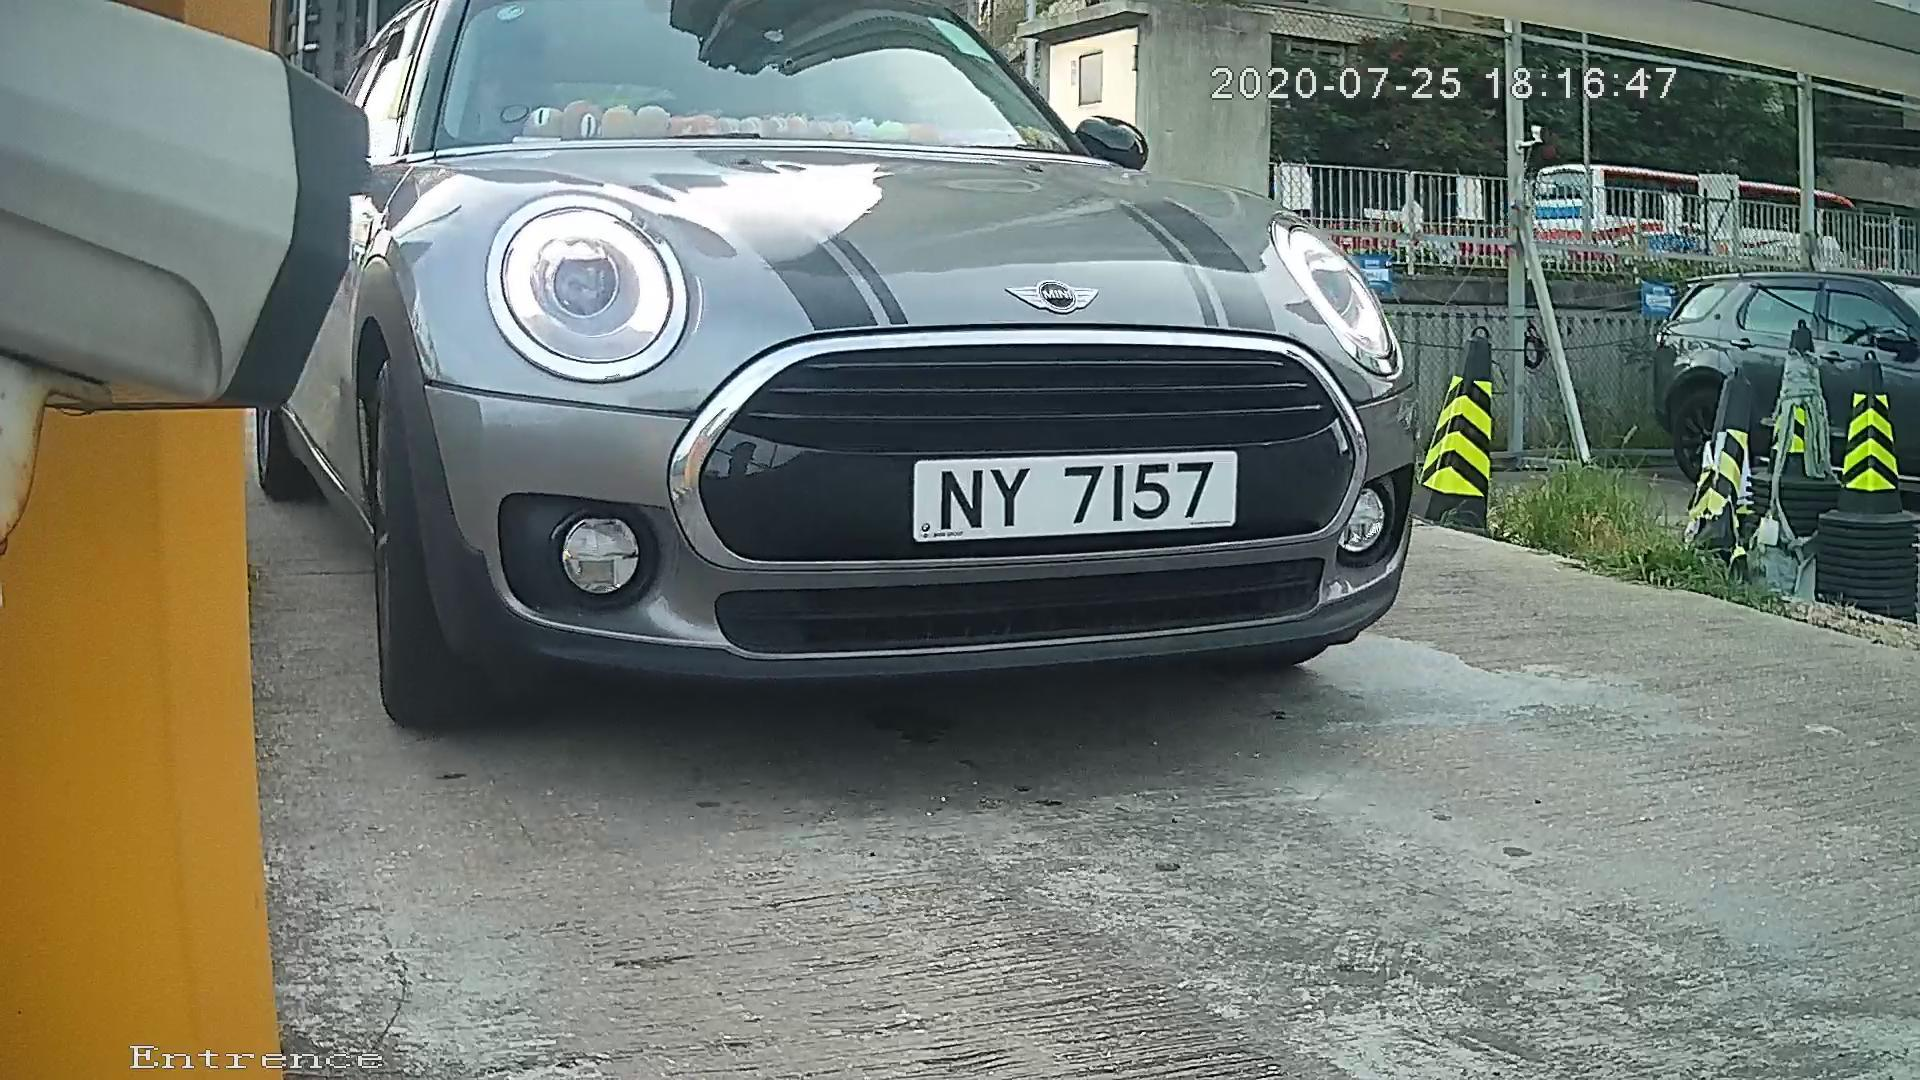privatecar: (280, 3, 1491, 742)
